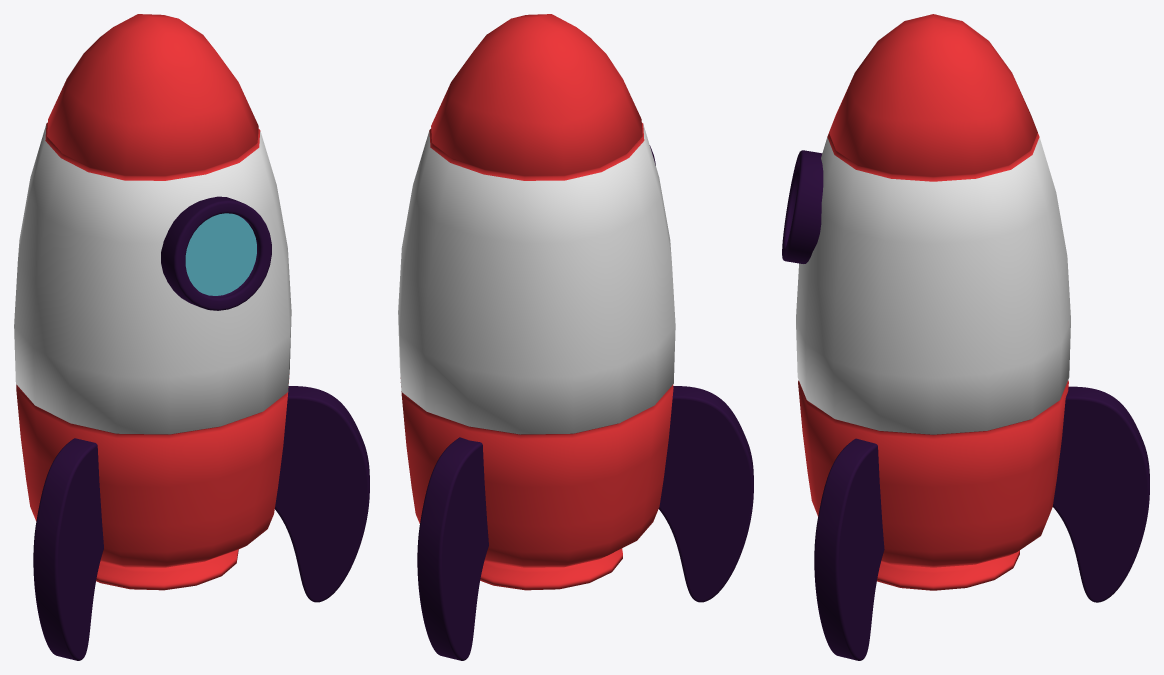
Rendered from Rocket.glb.
The picture shows the model from 3 angles, left to right: view 1: azimuth 30°, elevation 25°; view 2: azimuth 150°, elevation 25°; view 3: azimuth 270°, elevation 25°; orthographic projection.
Visible parts, largest first — view 1: Cube, BezierCircle.002, BezierCircle, Cylinder; view 2: Cube, BezierCircle, BezierCircle.001; view 3: Cube, BezierCircle.001, BezierCircle.002, Cylinder.
Boxes of the visible parts, <box> form: Cube: <box>14,14,291,590</box>; BezierCircle.002: <box>275,386,369,602</box>; BezierCircle: <box>33,438,103,660</box>; Cylinder: <box>161,196,271,310</box>; Cube: <box>398,14,675,590</box>; BezierCircle: <box>658,386,753,602</box>; BezierCircle.001: <box>417,437,488,660</box>; Cube: <box>796,14,1070,590</box>; BezierCircle.001: <box>1052,386,1149,602</box>; BezierCircle.002: <box>814,438,884,660</box>; Cylinder: <box>782,150,823,263</box>.
Size of the model in its own units: 2.96 by 4.89 by 2.82.
